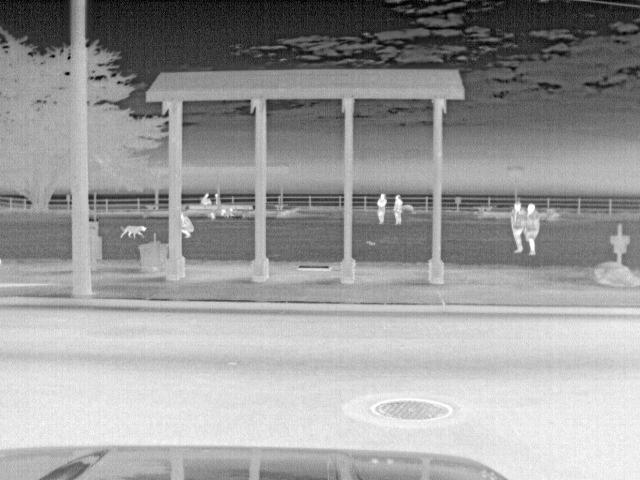dog: (118, 223, 149, 236)
person: (523, 200, 541, 256), (509, 199, 526, 257), (392, 191, 407, 228), (377, 190, 389, 228), (179, 210, 194, 237), (200, 190, 213, 206), (211, 192, 224, 208)
